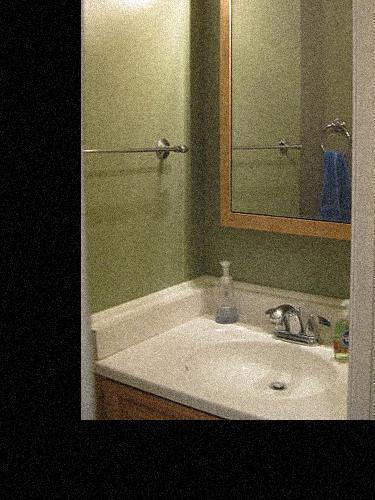Lavamanos: (87, 283, 373, 419)
